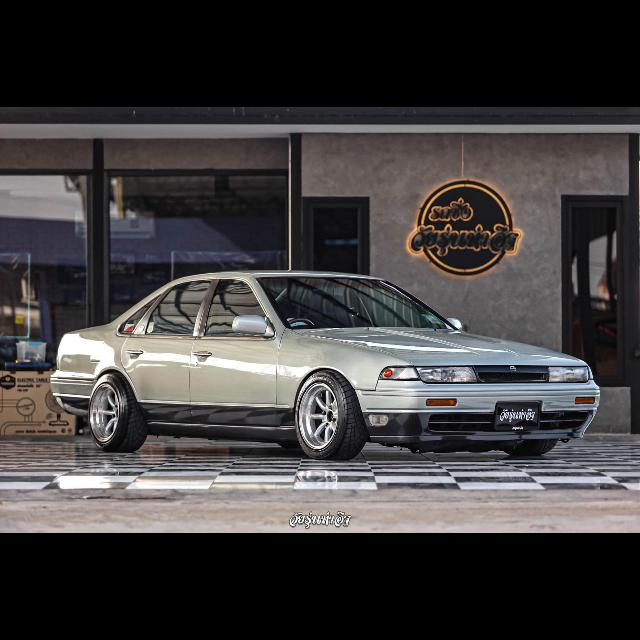cars: (48, 258, 606, 464)
